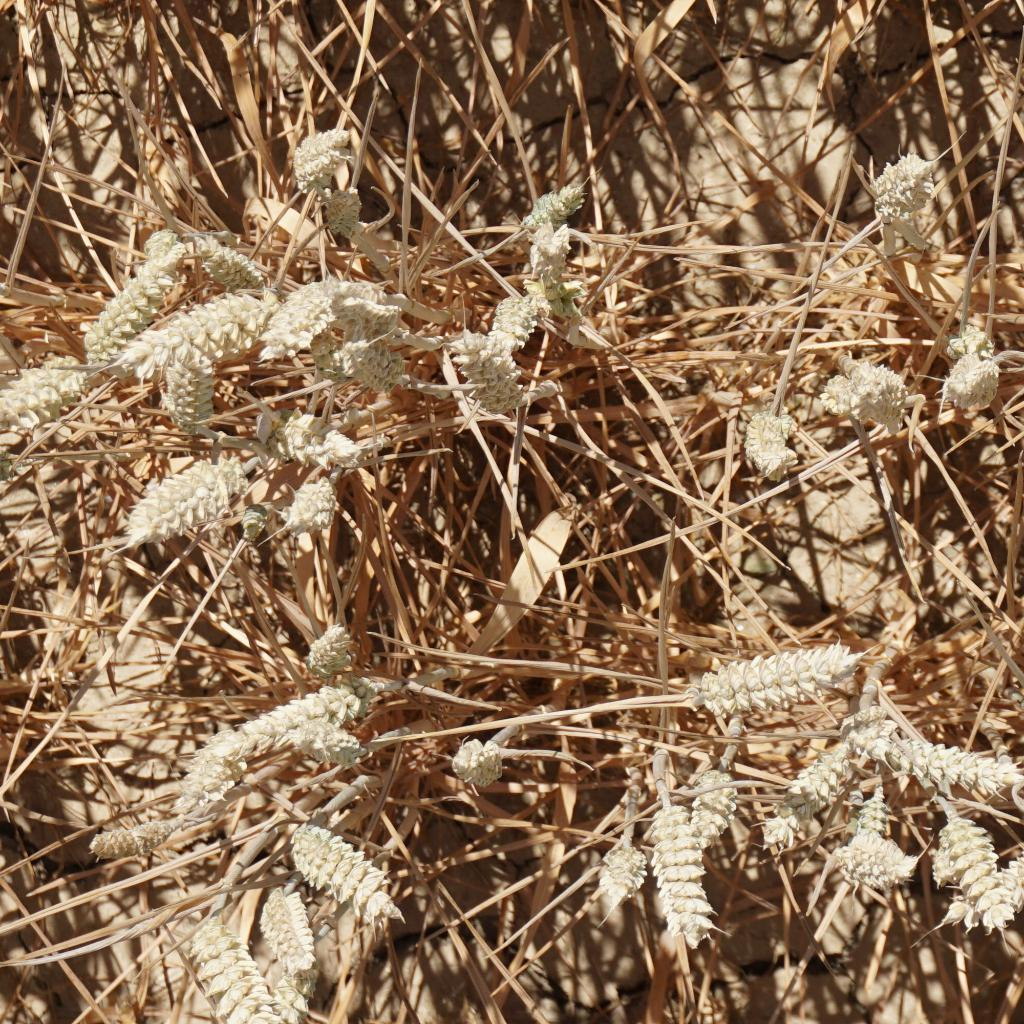0-0: (83, 230, 197, 378), (684, 628, 869, 719), (112, 441, 266, 535), (287, 821, 410, 932), (261, 266, 378, 378), (872, 698, 1004, 781), (643, 796, 714, 947), (925, 832, 1024, 939), (139, 281, 258, 370), (931, 807, 1019, 925), (858, 147, 951, 251), (175, 716, 255, 829), (811, 801, 909, 891), (313, 272, 421, 349), (450, 324, 534, 422), (267, 403, 370, 482), (328, 318, 415, 409), (188, 919, 263, 1017), (244, 675, 372, 730), (72, 805, 194, 861), (731, 395, 806, 485), (732, 775, 821, 850), (515, 214, 582, 311), (815, 350, 903, 423), (0, 360, 74, 442), (260, 882, 326, 973), (781, 728, 860, 801), (273, 466, 344, 541), (157, 336, 208, 431), (287, 125, 366, 186), (287, 716, 376, 770), (591, 834, 650, 909), (675, 754, 736, 826), (520, 175, 586, 240), (943, 354, 1006, 417), (301, 615, 367, 675), (486, 285, 541, 356), (186, 236, 269, 283), (849, 782, 898, 861), (313, 173, 370, 240), (442, 728, 504, 789), (0, 445, 38, 491)
